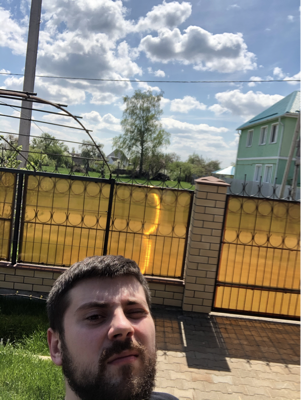without_mask: (67, 289, 155, 400)
